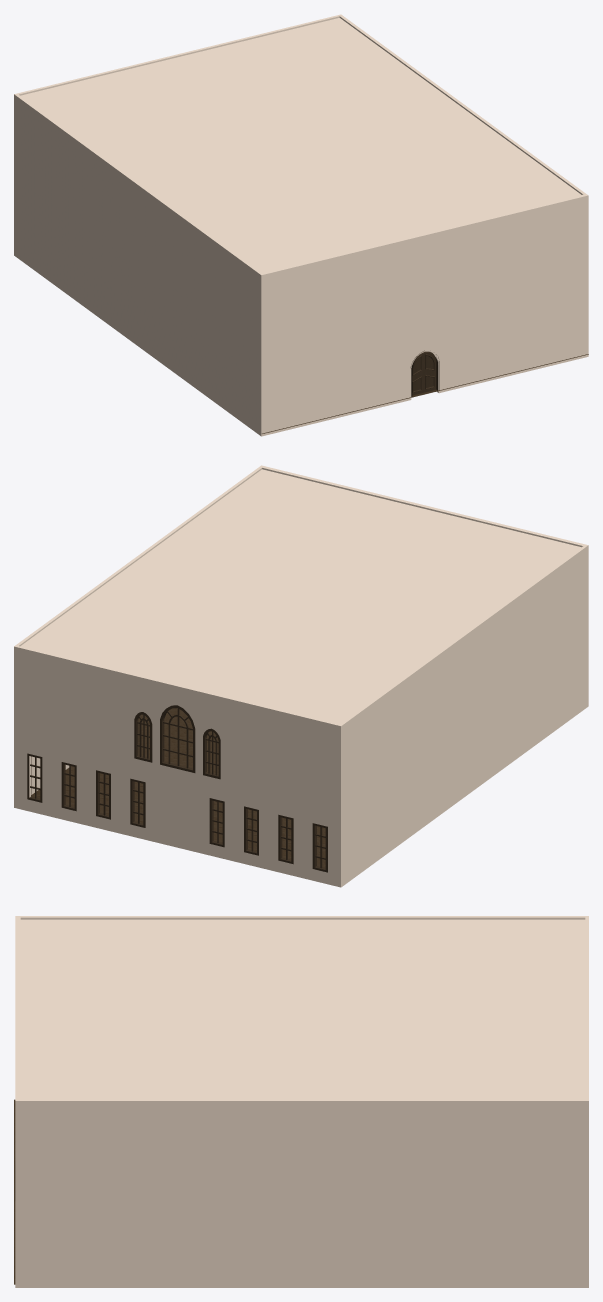
File: library_structure.glb
The picture shows the model from 3 angles, top to bottom: view 1: azimuth 30°, elevation 25°; view 2: azimuth 150°, elevation 25°; view 3: azimuth 270°, elevation 25°; orthographic projection. The views are drawn at different scales.
Visible parts, largest first — view 1: walls, ceiling, door; view 2: walls, ceiling, windows2.001, large_windows, floor, second_floor; view 3: walls, ceiling.
Part boxes in pixels (x1,y1,x2,y2): walls: [14, 14, 588, 436]; ceiling: [20, 18, 581, 272]; door: [412, 353, 436, 395]; walls: [14, 465, 588, 887]; ceiling: [20, 469, 581, 724]; windows2.001: [27, 753, 327, 872]; large_windows: [134, 705, 220, 779]; floor: [31, 766, 325, 867]; second_floor: [138, 708, 218, 774]; walls: [15, 916, 588, 1287]; ceiling: [20, 919, 585, 1099].
Size of the model in its own units: 26.81 by 12.63 by 35.22.
Materials: 2 (2 with a texture image).
